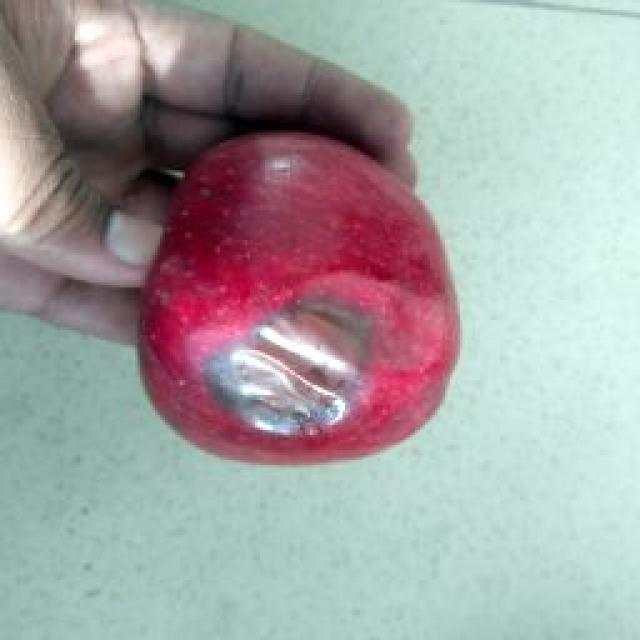Bad_Apple: (141, 132, 459, 463)
